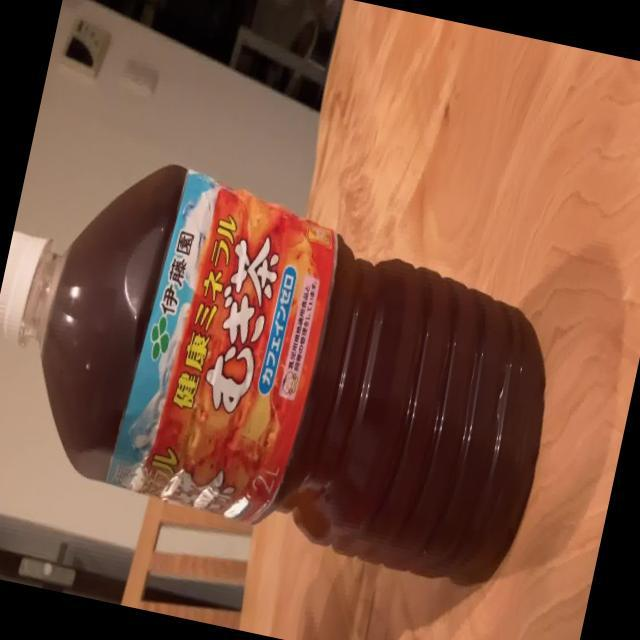good: (0, 130, 584, 610)
